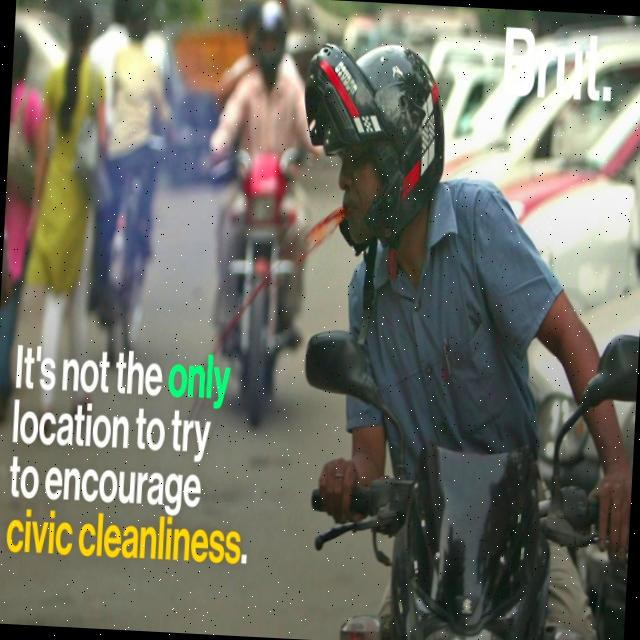spit: (215, 179, 389, 354)
